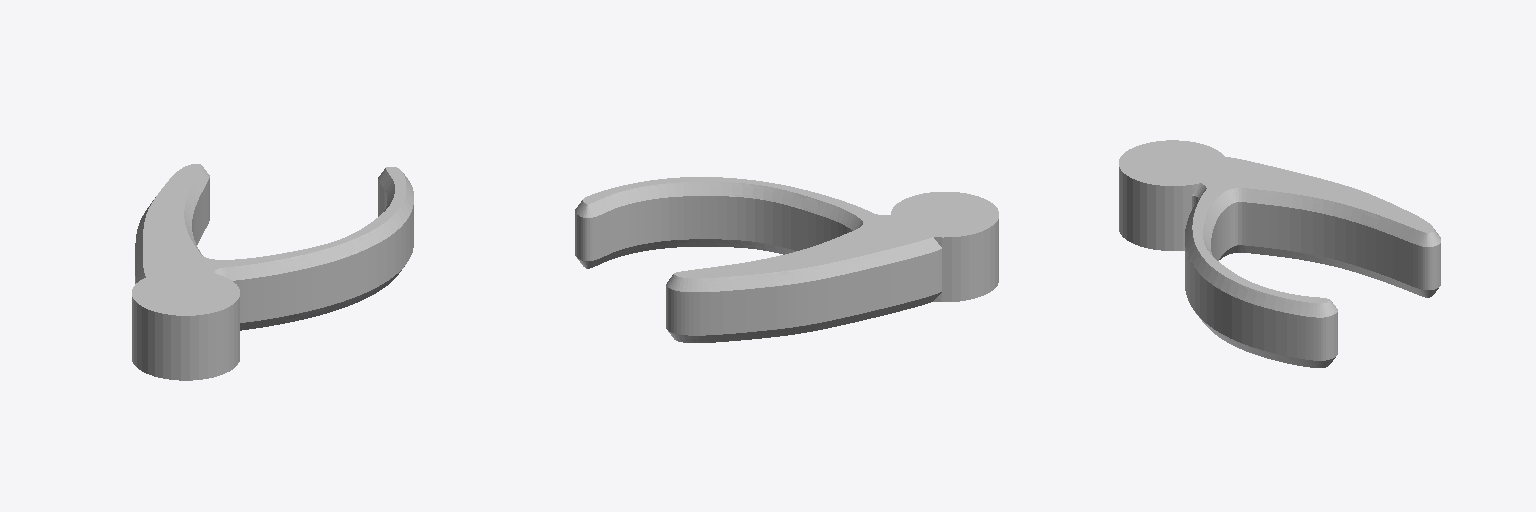
The model's file is TriggerBackForward.obj.
3 renders of one model, left to right at view 1: azimuth 30°, elevation 25°; view 2: azimuth 150°, elevation 25°; view 3: azimuth 270°, elevation 25°, orthographic.
Visible parts, largest first — view 1: TriggerBackForward; view 2: TriggerBackForward; view 3: TriggerBackForward.
Boxes of the visible parts, x1,y1,x2,y2 form: TriggerBackForward: [132, 164, 413, 380]; TriggerBackForward: [575, 177, 998, 342]; TriggerBackForward: [1119, 140, 1440, 367].
Size of the model in its own units: 0.0331 by 0.006 by 0.0271.